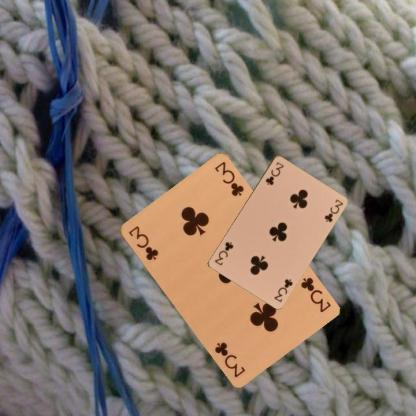3c: (298, 274, 332, 314), (126, 223, 160, 262), (271, 276, 294, 303), (263, 160, 285, 186)
